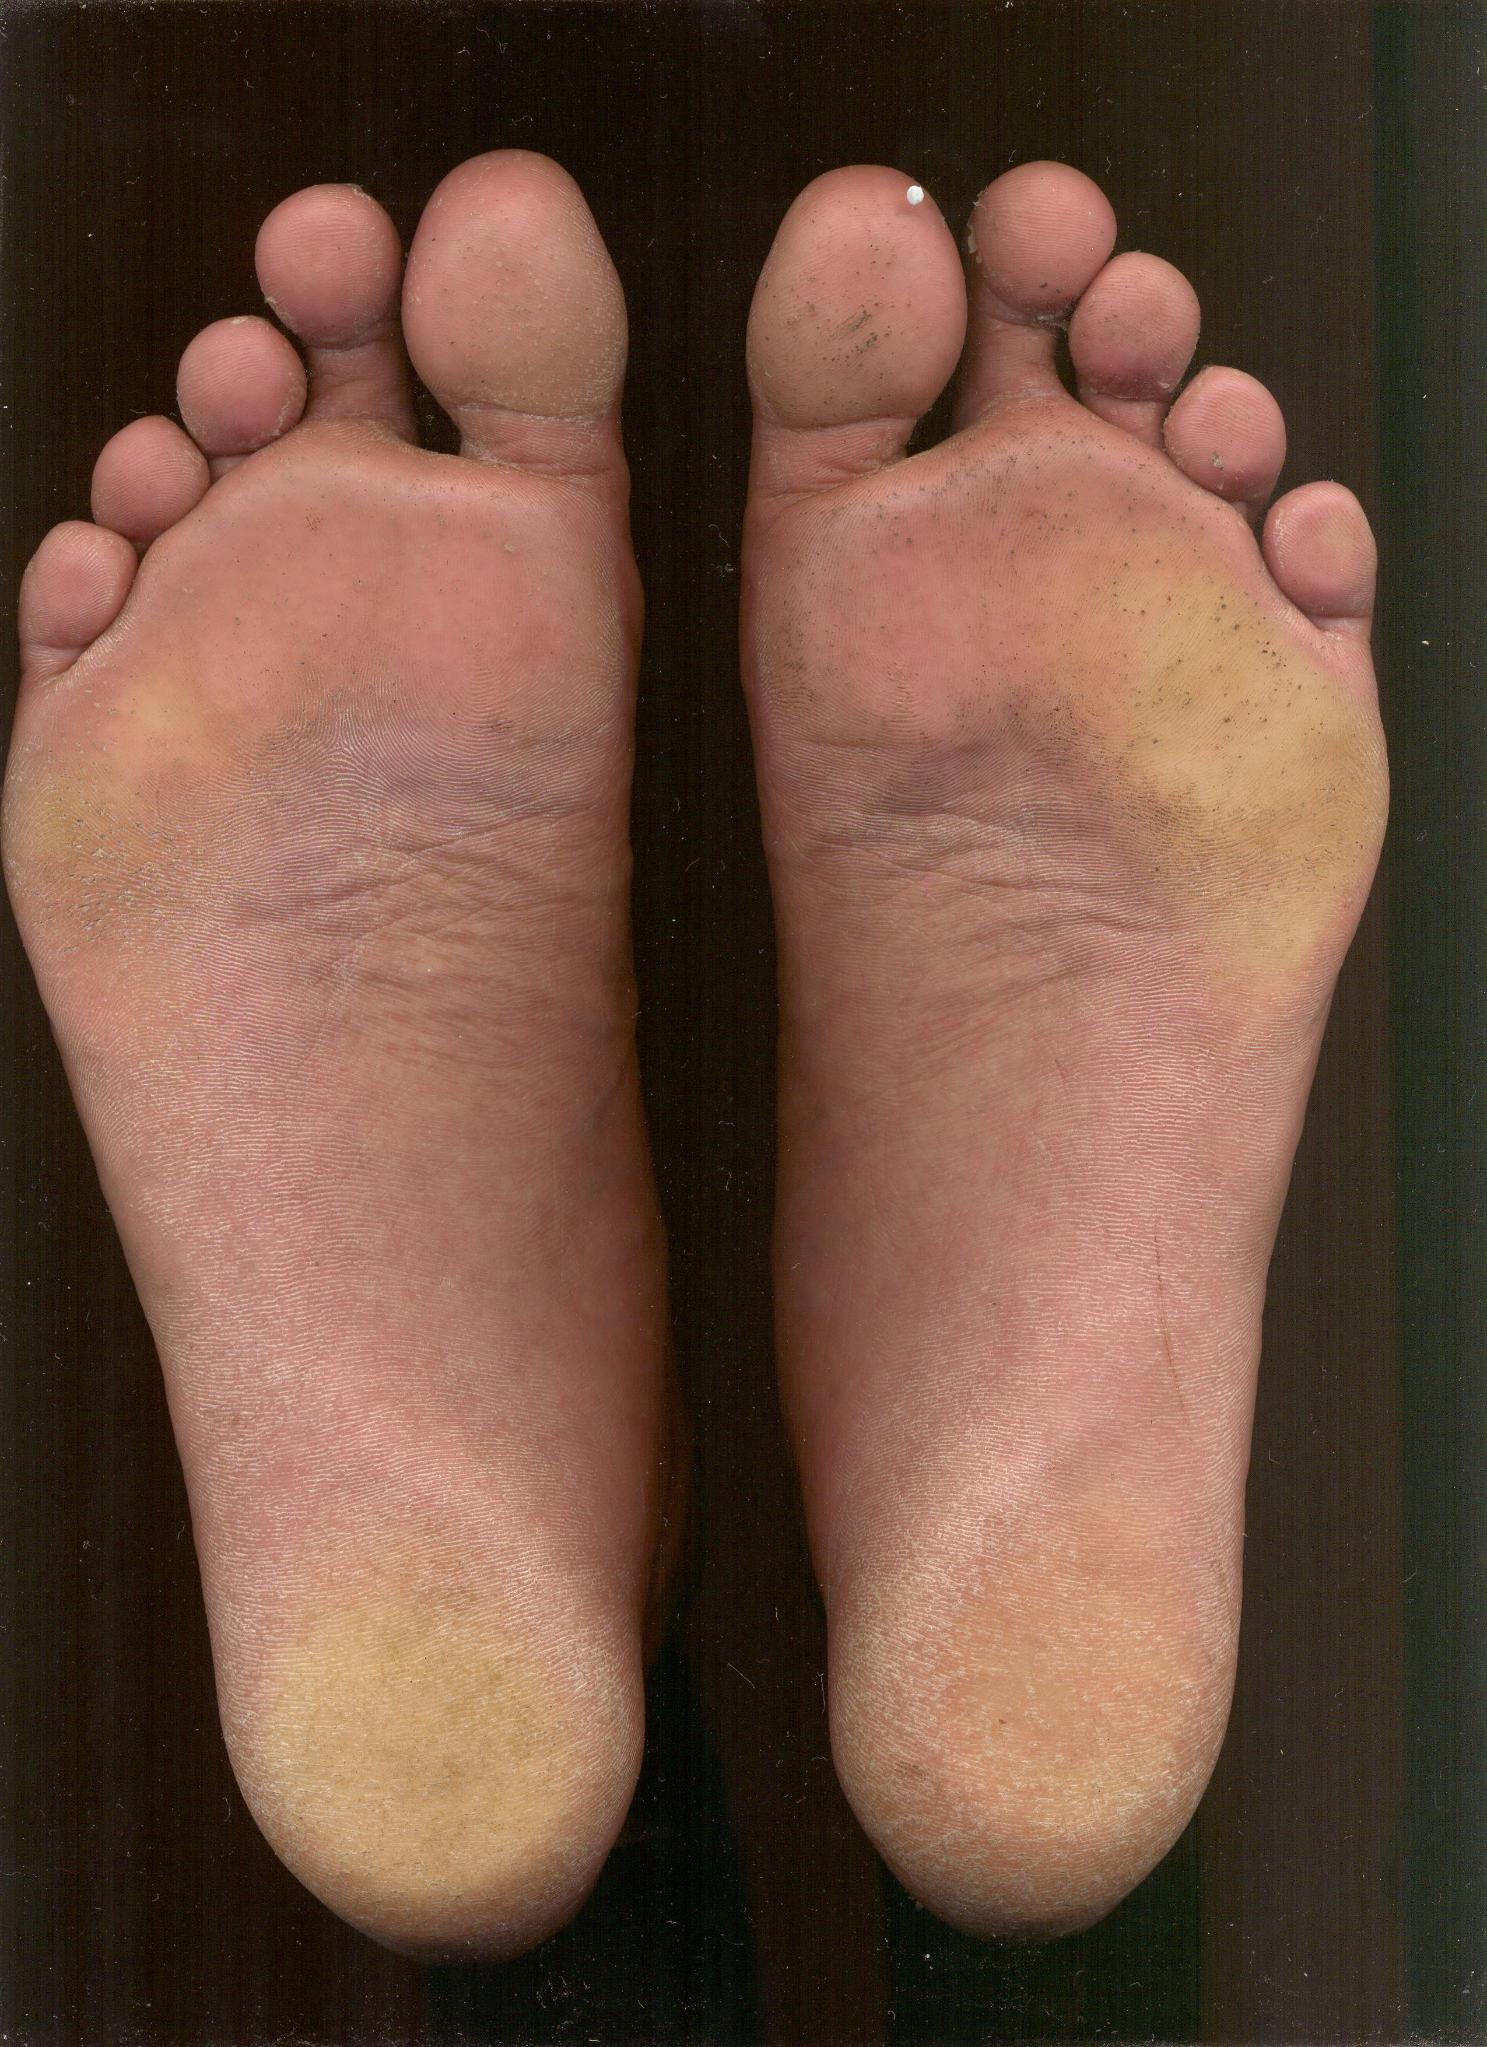1: (6, 140, 688, 1966)
Present: (758, 111, 1423, 1937)
